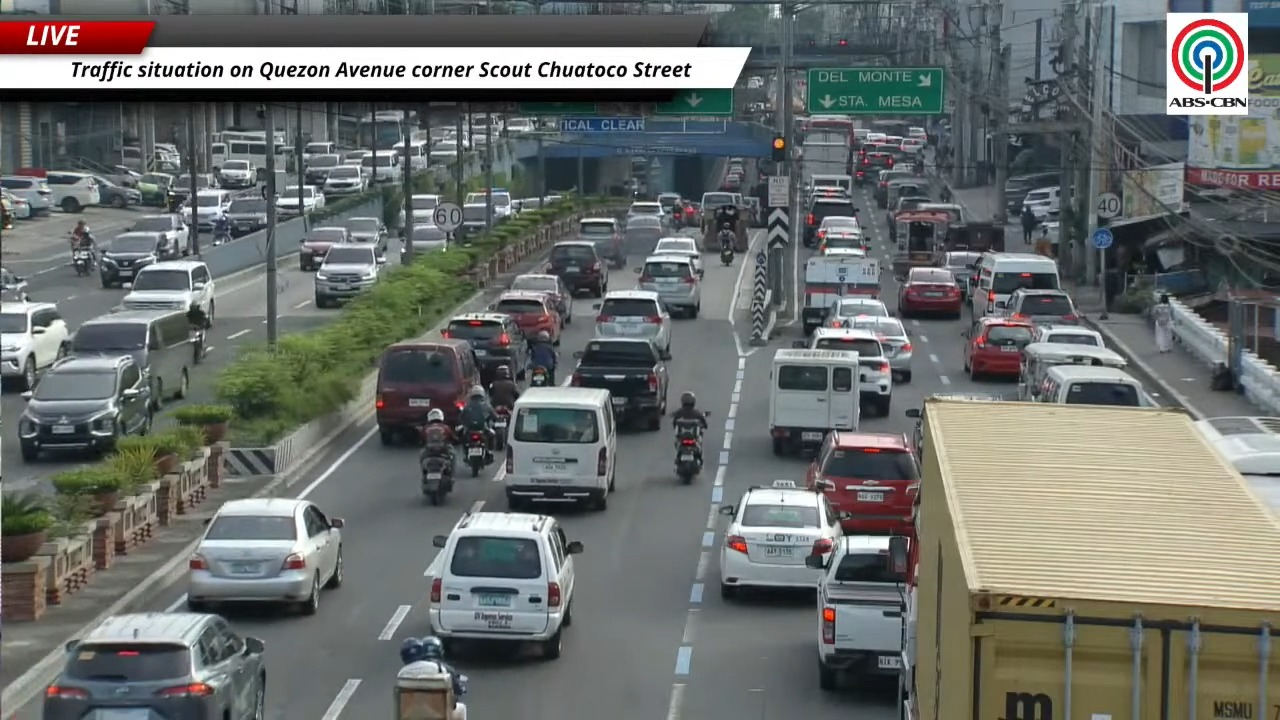bus: (211, 132, 266, 178), (337, 115, 404, 149), (210, 129, 264, 142)
car: (42, 612, 266, 719), (429, 512, 582, 658), (186, 498, 343, 614), (719, 480, 842, 597), (18, 355, 152, 461), (805, 431, 919, 534), (375, 338, 480, 445), (793, 327, 893, 415), (441, 312, 529, 386), (0, 302, 69, 390), (121, 259, 214, 322), (593, 290, 671, 356), (314, 243, 385, 307), (100, 231, 181, 287), (963, 316, 1033, 379), (850, 316, 913, 382), (636, 255, 700, 318), (489, 291, 561, 345), (546, 241, 608, 297), (898, 267, 963, 317), (509, 273, 571, 324), (803, 196, 858, 246), (1006, 288, 1079, 325), (577, 217, 626, 268), (299, 226, 353, 271), (45, 171, 100, 212), (126, 214, 188, 248), (821, 297, 891, 327), (0, 175, 52, 215), (937, 251, 980, 298), (184, 189, 231, 231), (652, 236, 703, 274), (885, 192, 932, 233), (401, 223, 448, 263), (343, 217, 388, 255), (464, 188, 512, 223), (226, 196, 267, 236), (872, 168, 913, 207), (93, 175, 141, 208), (276, 185, 324, 218), (1033, 325, 1105, 347), (817, 226, 868, 256), (137, 171, 175, 211), (455, 202, 496, 236), (854, 151, 895, 185), (624, 215, 668, 246), (322, 165, 367, 195), (360, 151, 400, 183), (816, 216, 862, 242), (305, 155, 343, 186), (218, 159, 257, 188), (626, 201, 665, 228), (0, 266, 28, 301), (0, 190, 32, 219), (411, 194, 441, 224), (656, 192, 682, 226), (166, 173, 192, 206), (929, 392, 1005, 401), (807, 186, 850, 201), (818, 246, 866, 257), (899, 138, 924, 157)
motorcycle: (675, 420, 702, 483), (421, 455, 453, 505), (463, 430, 487, 477), (493, 406, 510, 451), (72, 250, 92, 276), (530, 366, 549, 386), (212, 228, 232, 246), (720, 246, 734, 266)
truck: (901, 398, 1279, 719), (805, 535, 905, 689), (570, 337, 668, 430), (800, 254, 880, 335)
